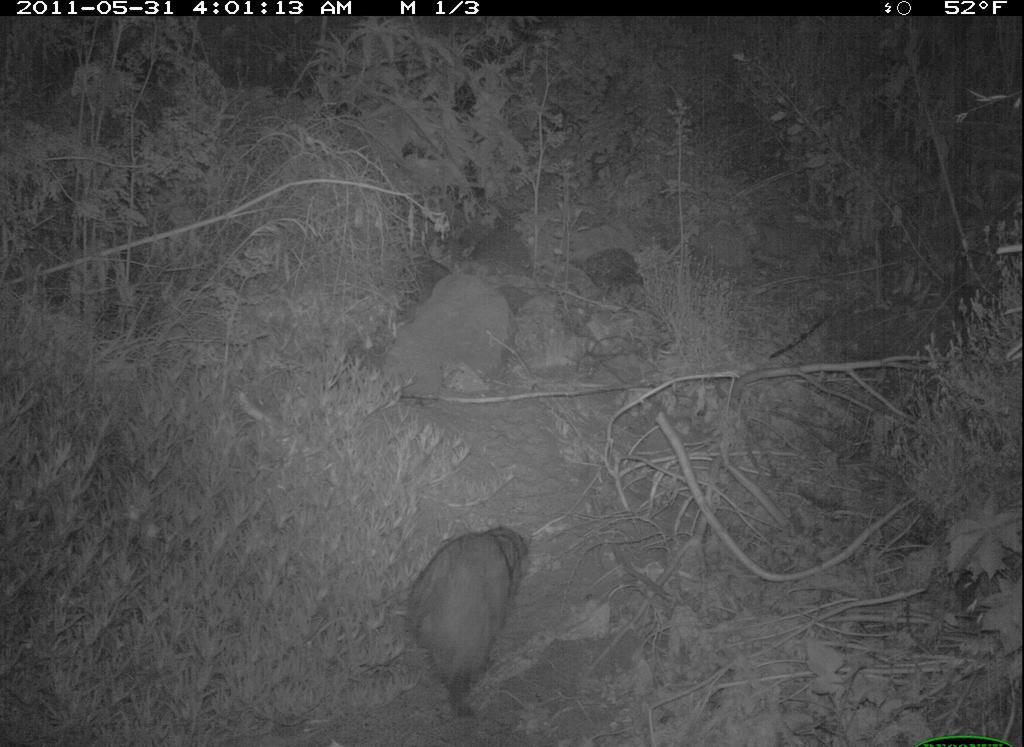raccoon: (387, 518, 553, 715)
